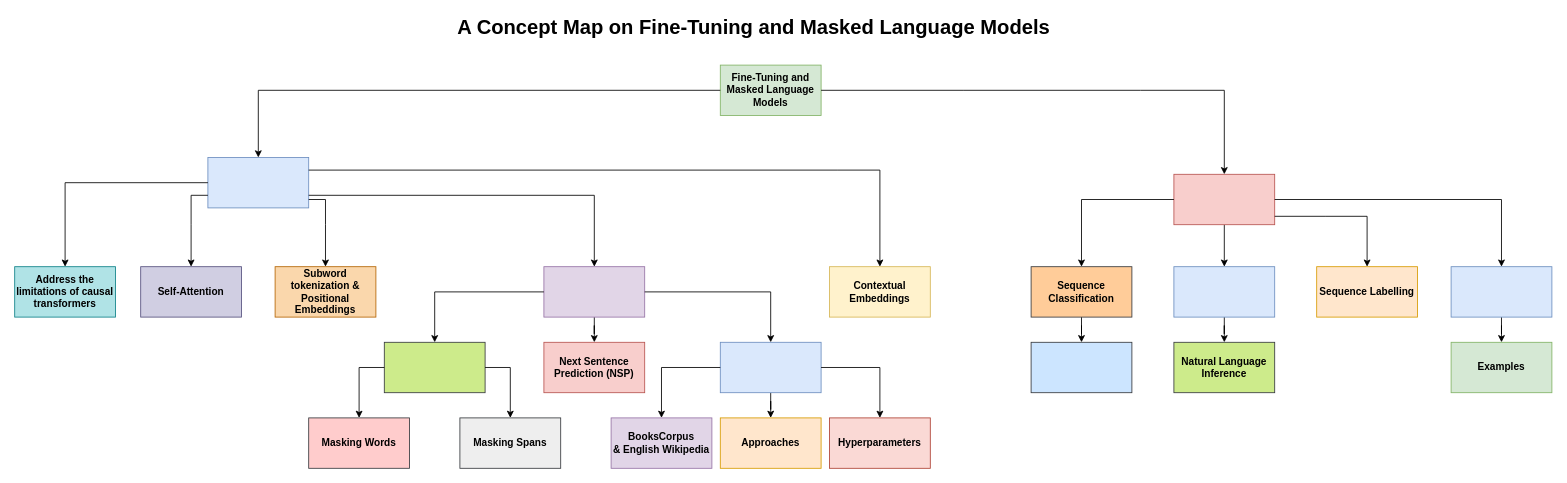
Image size: 1567x483. Some labels were removed from this diagram. Here are the shapes that lost their labels. From the top down, the centre of each, then its label:
(x=258, y=182): Bidirectional Transformer Encoders
(x=1224, y=199): Transfer Learning through Fine-Tuning
(x=594, y=291): Training Bidirectional Encoders
(x=1224, y=291): Pair-Wise Sequence Classification
(x=1501, y=291): Fine-tuning for Span-Based Applications
(x=434, y=367): Masked Language Modeling (MLM)
(x=770, y=367): Training Regimes
(x=1081, y=367): Sentence Embedding
